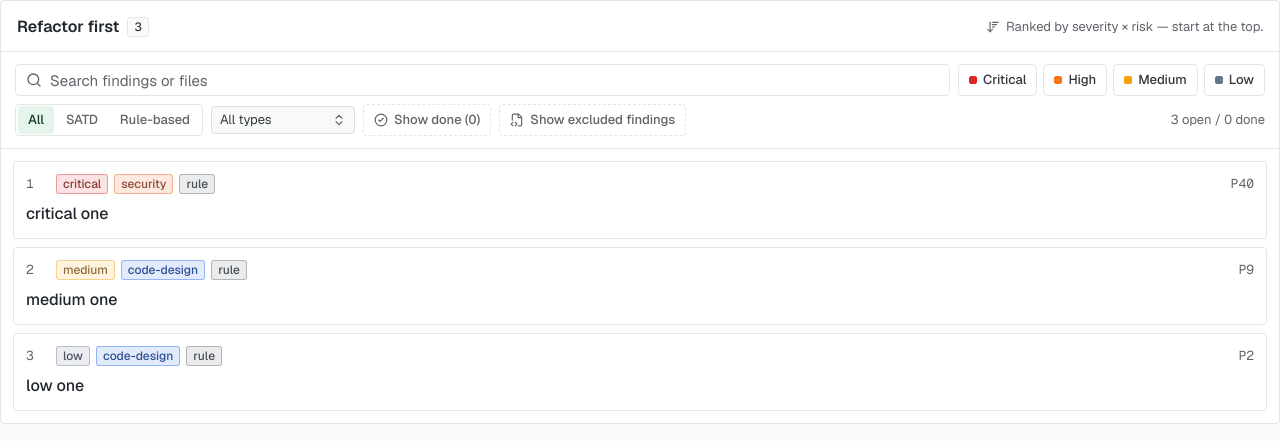
filters the list by debt type and updates count badge
Expected: the icon "3" is shown, top-left (128, 17), bottom-right (149, 37)
Click the dropdown named "filter by debt type" at coordinates (283, 120), box top-left (211, 106), bottom-right (355, 134)
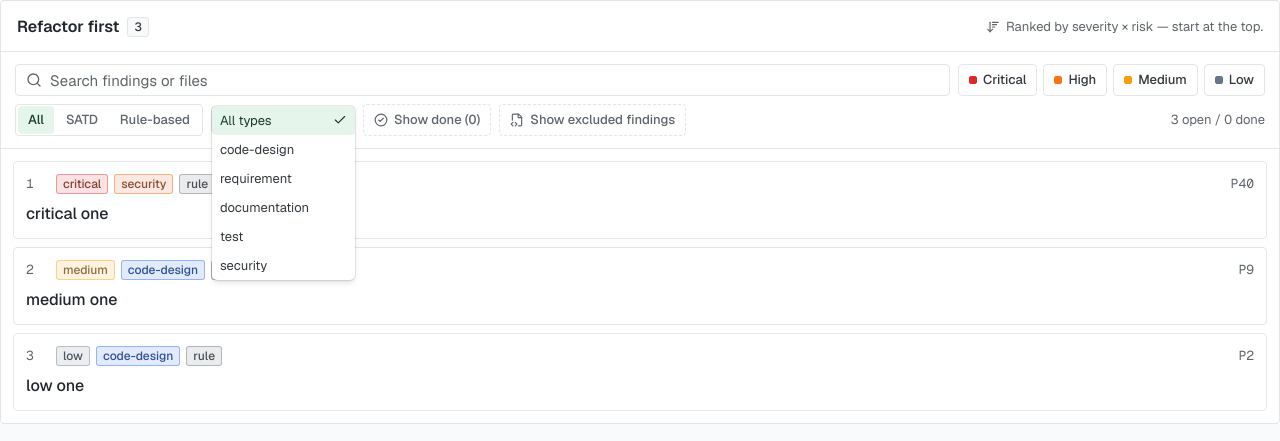
Click the option "security" at coordinates (244, 266), box top-left (220, 257), bottom-right (267, 274)
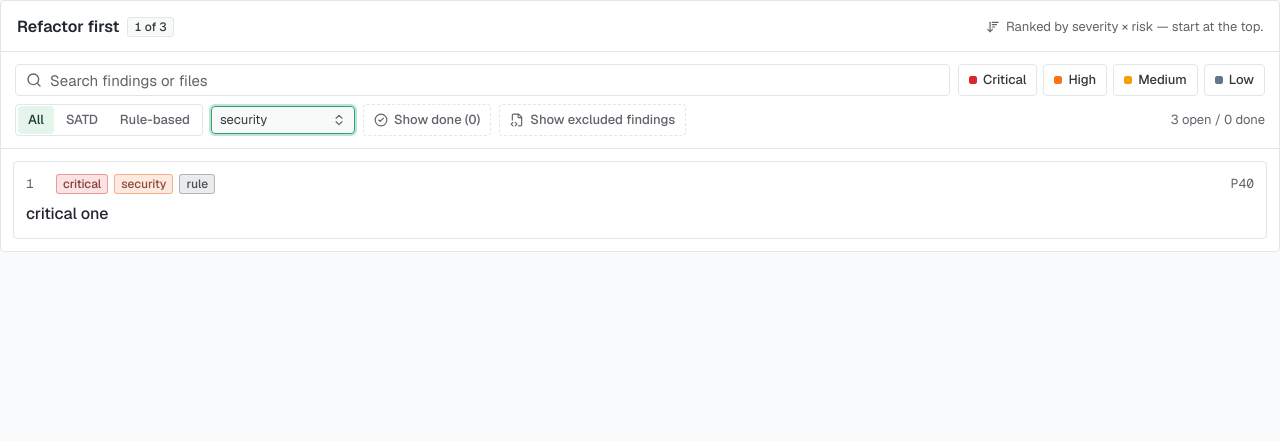
Expected: the text "critical one" is shown, top-left (26, 203), bottom-right (108, 224)
Expected: the button "low one" is gone
Expected: the icon "1 of 3" is shown, top-left (128, 17), bottom-right (174, 37)
